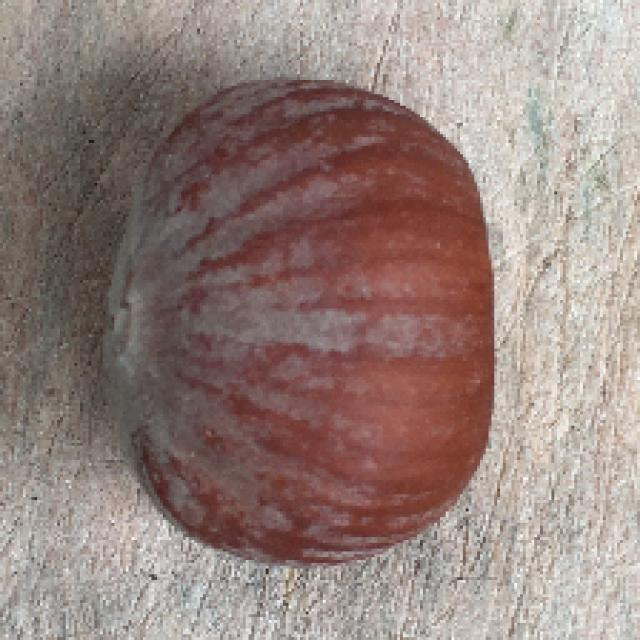qualityHazelnut: (104, 76, 498, 572)
